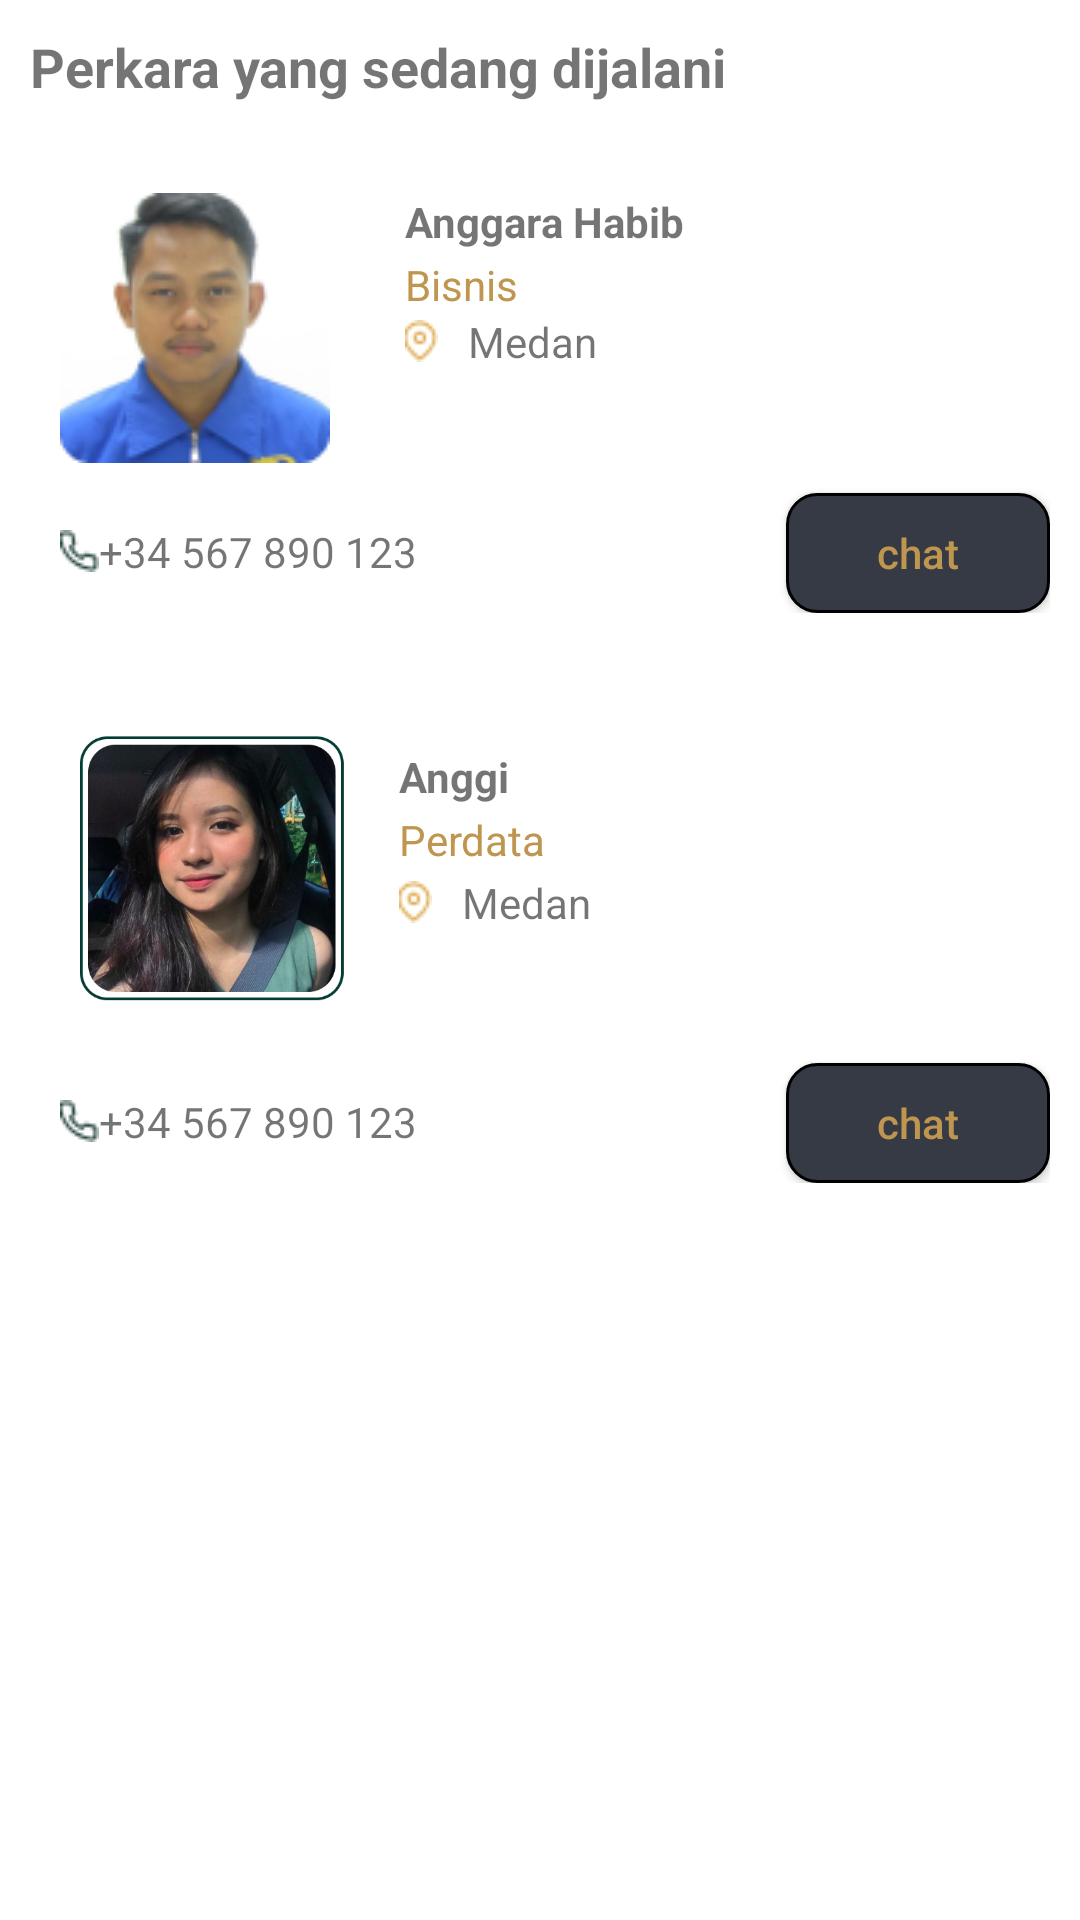

Where icons sit on this 1080w x 1920h app screen, as bbox=(x1, y1, x2, y2):
userpic: bbox=(60, 193, 330, 463)
